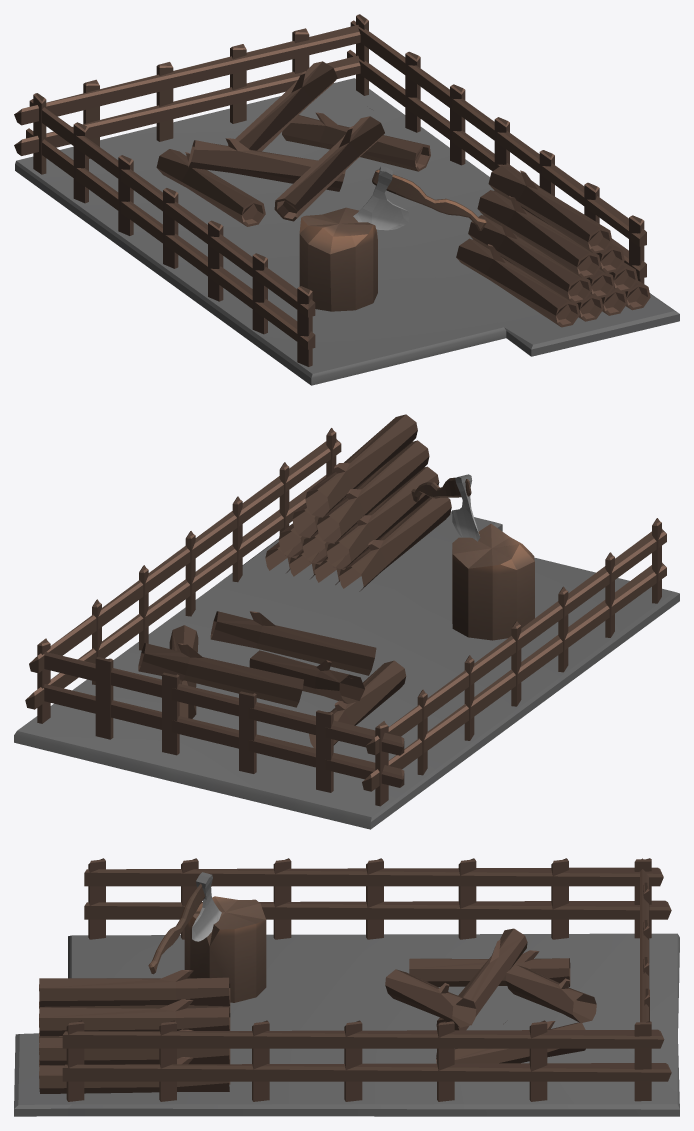
Rendered from Sawmill_0lvl.fbx.
The picture shows the model from 3 angles, top to bottom: view 1: azimuth 30°, elevation 25°; view 2: azimuth 150°, elevation 25°; view 3: azimuth 270°, elevation 25°; orthographic projection. The views are drawn at different scales.
Parts seen in each view (by area): view 1: Sawmill_0lvl; view 2: Sawmill_0lvl; view 3: Sawmill_0lvl.
Boxes of the visible parts, x1,y1,x2,y2 form: Sawmill_0lvl: (14, 14, 679, 385); Sawmill_0lvl: (14, 414, 679, 829); Sawmill_0lvl: (14, 858, 679, 1116).
Bounding box in the file's own units: 4.17 × 1.52 × 6.47.
1 material, 1 textured.
